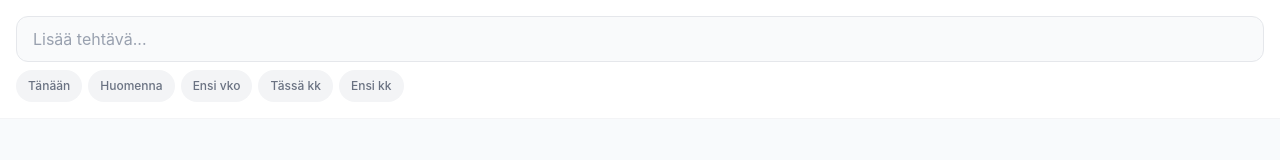
Test: FIX-002: QuickInput visible submit button › has a visible submit button labeled Lisää
The width and height of the screenshot is (1280, 160).
Type "Testi" into the field with placeholder "Lisää tehtävä...".
click(640, 39); type("Testi")  # box [16, 16, 1264, 62]
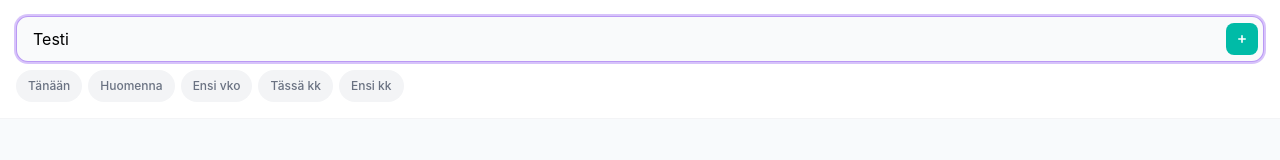
Expected: the button named "lisää" is shown, [1226, 23, 1258, 55]
